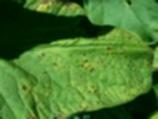Tomato Septoria leaf spot: (0, 23, 157, 119)
